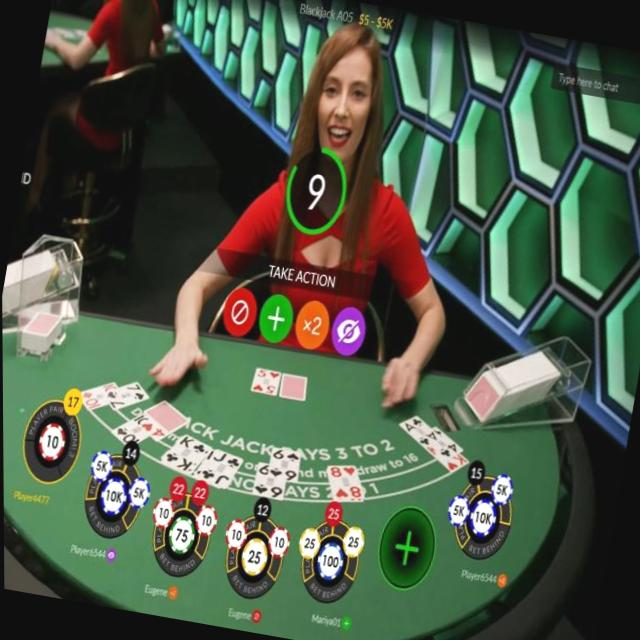Card-10: (111, 411, 149, 449), (76, 381, 118, 411)
Card-4: (423, 425, 462, 460), (140, 419, 169, 442)
Card-5: (250, 367, 280, 395)
Card-6: (251, 461, 285, 499), (267, 447, 300, 484)
Card-7: (106, 380, 148, 411)
Card-8: (327, 466, 361, 501)
Card-A: (398, 413, 430, 448)
Card-J: (191, 446, 242, 489)
Card-K: (160, 432, 210, 475), (424, 443, 468, 473)
